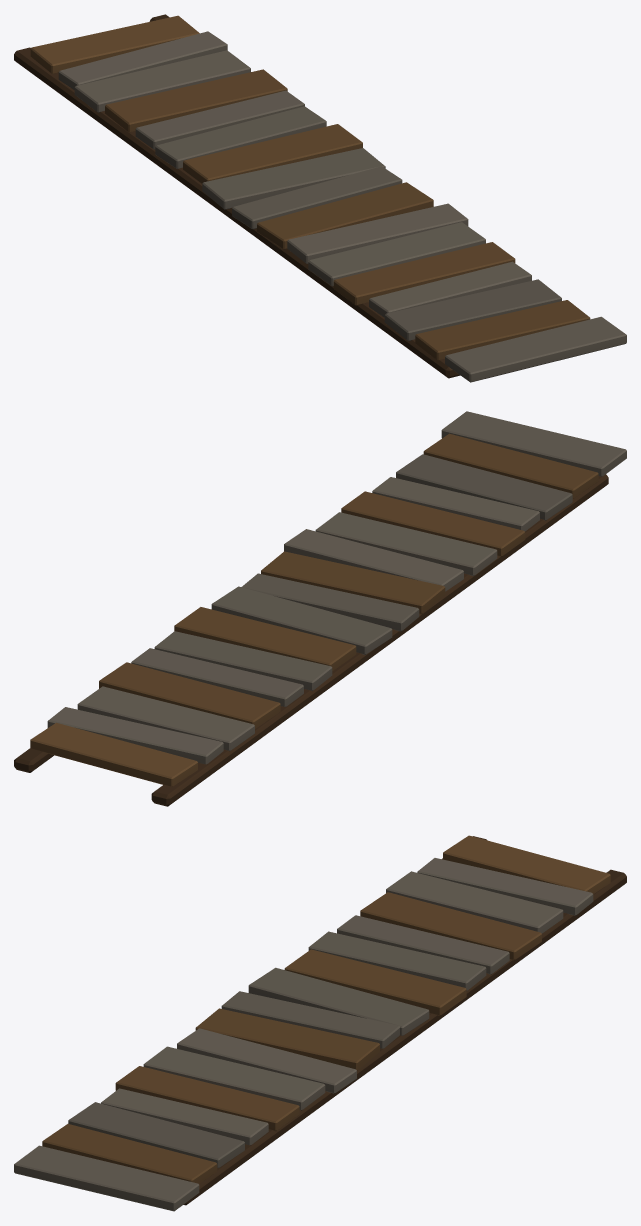
The model's file is plank_bridge.glb.
3 views of the same model, one above another, from view 1: azimuth 30°, elevation 25°; view 2: azimuth 150°, elevation 25°; view 3: azimuth 330°, elevation 25° (orthographic).
Parts seen in each view (by area): view 1: plank_bridge; view 2: plank_bridge; view 3: plank_bridge.
Boxes of the visible parts, x1,y1,x2,y2 form: plank_bridge: (14, 14, 626, 382); plank_bridge: (14, 411, 626, 806); plank_bridge: (14, 835, 626, 1211).
Bounding box in the file's own units: 0.8879 × 0.105 × 4.18.
